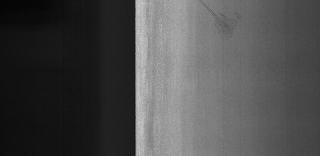water spot: (193, 0, 254, 42)
